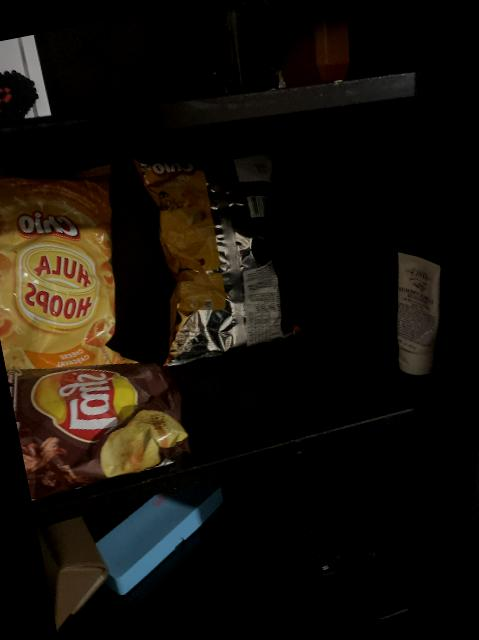Chio Cascaval 125g: (129, 138, 304, 360)
Chio Hula Hoops Cheese 70g: (0, 127, 144, 386)
Lays Beef Grilled Ribs 125g: (10, 339, 186, 498)
